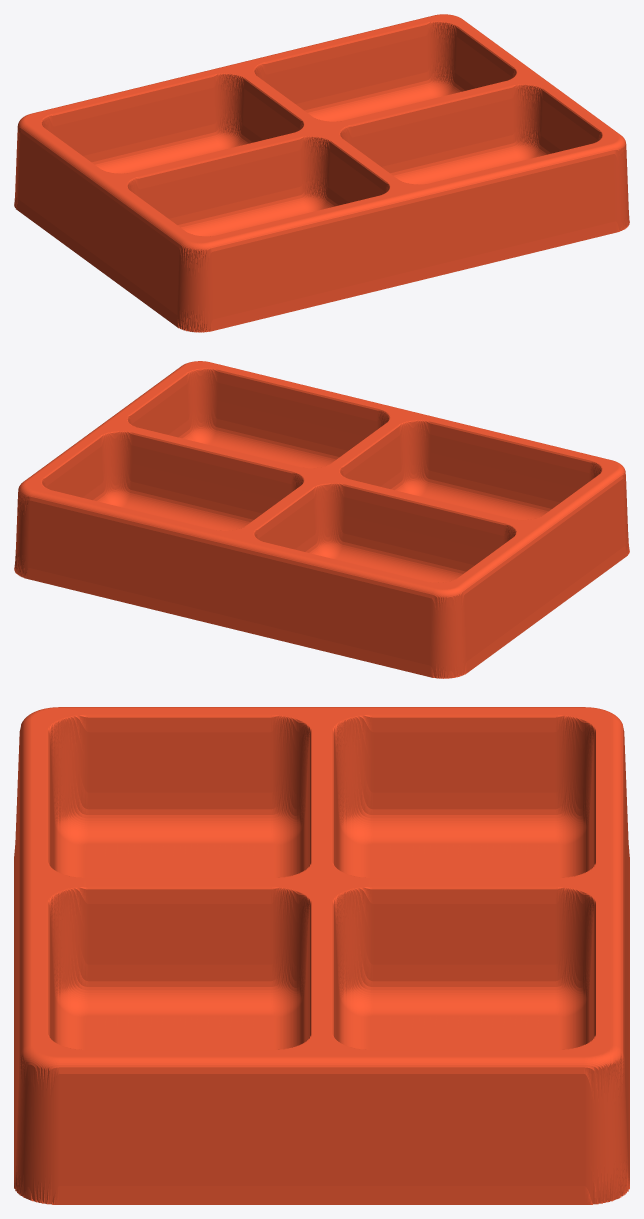
Rendered from mold.glb.
3 renders of one model, top to bottom at view 1: azimuth 30°, elevation 25°; view 2: azimuth 150°, elevation 25°; view 3: azimuth 270°, elevation 25°, orthographic. The views are drawn at different scales.
Visible parts, largest first — view 1: geometry_0; view 2: geometry_0; view 3: geometry_0.
Boxes of the visible parts, box(x1,y1,x2,y2) form: geometry_0: box(14, 14, 629, 332); geometry_0: box(14, 361, 629, 678); geometry_0: box(14, 707, 629, 1204).
Size of the model in its own units: 0.1721 by 0.031 by 0.1232.
